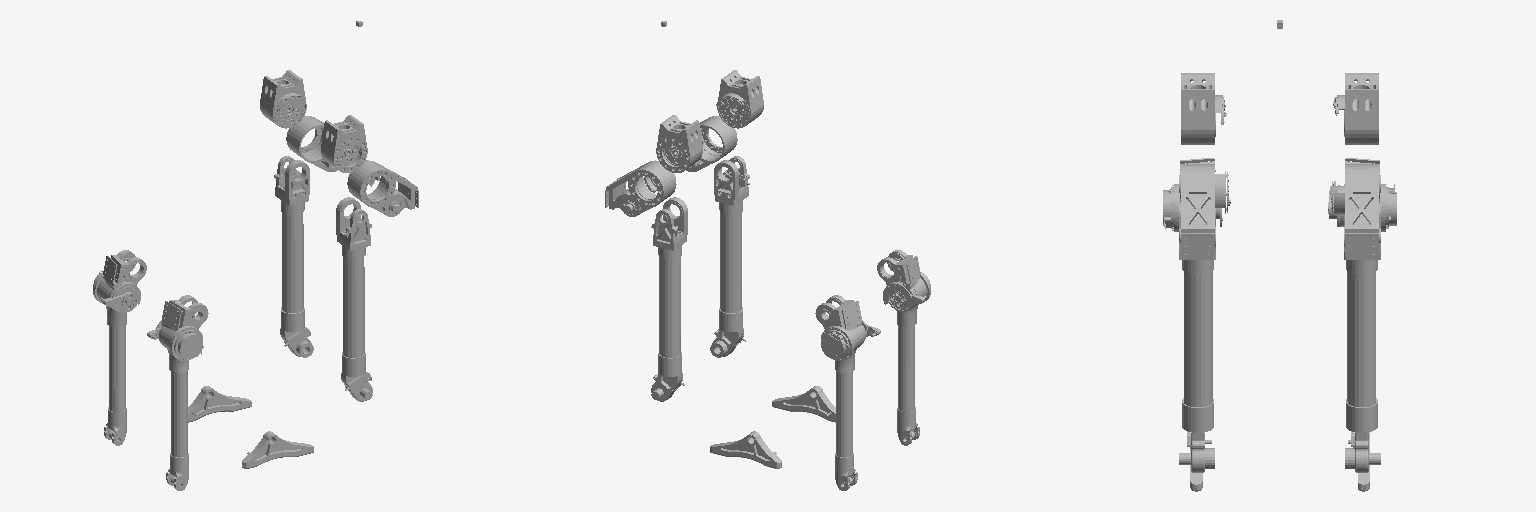
URDF robot description (casia_nn):
<?xml version="1.0" encoding="utf-8"?>
<!-- This URDF was automatically created by SolidWorks to URDF Exporter! Originally created by [author] ([email redacted]) 
     Commit Version: 1.5.1-0-g916b5db  Build Version: 1.5.7152.31018
     For more information, please see http://wiki.ros.org/sw_urdf_exporter -->
<robot
  name="casia_nn">
  <link
    name="pelvis">
    <inertial>
      <origin
        xyz="0.0295583628182488 3.89626767705636E-05 -0.0155783424997366"
        rpy="0 0 0" />
      <mass
        value="6.56964969274137" />
      <inertia
        ixx="0.0235604863264443"
        ixy="-2.84451907912669E-06"
        ixz="7.97597097465655E-06"
        iyy="0.014455865873678"
        iyz="-6.61650817705969E-07"
        izz="0.010763598299641" />
    </inertial>
    <visual>
      <origin
        xyz="0 0 0"
        rpy="0 0 0" />
      <geometry>
        <mesh
          filename="package://meshes/pelvis.STL" />
      </geometry>
      <material
        name="">
        <color
          rgba="0.898039215686275 0.917647058823529 0.929411764705882 1" />
      </material>
    </visual>
    <collision>
      <origin
        xyz="0 0 0"
        rpy="0 0 0" />
      <geometry>
        <mesh
          filename="package://meshes/pelvis.STL" />
      </geometry>
    </collision>
  </link>
  <link
    name="r_hip_roll">
    <inertial>
      <origin
        xyz="-0.0197574983038815 6.70238844218685E-05 -0.0794288941787985"
        rpy="0 0 0" />
      <mass
        value="1.97423093969954" />
      <inertia
        ixx="0.00185917486275064"
        ixy="1.49050941020285E-06"
        ixz="6.47326004132636E-06"
        iyy="0.00121028974020037"
        iyz="-5.40839098440978E-07"
        izz="0.00117581613527246" />
    </inertial>
    <visual>
      <origin
        xyz="0 0 0"
        rpy="0 0 0" />
      <geometry>
        <mesh
          filename="package://meshes/r_hip_roll.STL" />
      </geometry>
      <material
        name="">
        <color
          rgba="0.752941176470588 0.752941176470588 0.752941176470588 1" />
      </material>
    </visual>
    <collision>
      <origin
        xyz="0 0 0"
        rpy="0 0 0" />
      <geometry>
        <mesh
          filename="package://meshes/r_hip_roll.STL" />
      </geometry>
    </collision>
  </link>
  <joint
    name="hip_abduction_right"
    type="revolute">
    <origin
      xyz="0.018 -0.13451 -0.047805"
      rpy="0 1.5708 0" />
    <parent
      link="pelvis" />
    <child
      link="r_hip_roll" />
    <axis
      xyz="0 0 1" />
    <limit
      lower="0"
      upper="0"
      effort="0"
      velocity="0" />
  </joint>
  <link
    name="r_hip_yaw">
    <inertial>
      <origin
        xyz="-4.73889253360046E-05 0.00363016329238441 0.0883973830149929"
        rpy="0 0 0" />
      <mass
        value="2.43369646821999" />
      <inertia
        ixx="0.00169395681390459"
        ixy="-1.50517004981852E-07"
        ixz="2.19244261847128E-06"
        iyy="0.0023433394596445"
        iyz="3.68852375683399E-05"
        izz="0.00159777296295112" />
    </inertial>
    <visual>
      <origin
        xyz="0 0 0"
        rpy="0 0 0" />
      <geometry>
        <mesh
          filename="package://meshes/r_hip_yaw.STL" />
      </geometry>
      <material
        name="">
        <color
          rgba="0.752941176470588 0.752941176470588 0.752941176470588 1" />
      </material>
    </visual>
    <collision>
      <origin
        xyz="0 0 0"
        rpy="0 0 0" />
      <geometry>
        <mesh
          filename="package://meshes/r_hip_yaw.STL" />
      </geometry>
    </collision>
  </link>
  <joint
    name="hip_rotation_right"
    type="revolute">
    <origin
      xyz="0 0 -0.0805"
      rpy="0 1.5708 0" />
    <parent
      link="r_hip_roll" />
    <child
      link="r_hip_yaw" />
    <axis
      xyz="0 0 1" />
    <limit
      lower="0"
      upper="0"
      effort="0"
      velocity="0" />
  </joint>
  <link
    name="r_thigh">
    <inertial>
      <origin
        xyz="0.0685729502831823 0.0479698353391961 0.0307488394818552"
        rpy="0 0 0" />
      <mass
        value="5.11194928203702" />
      <inertia
        ixx="0.00426047675297536"
        ixy="-0.00110099031458567"
        ixz="1.28543730599597E-05"
        iyy="0.00506266459922407"
        iyz="9.33369842702112E-06"
        izz="0.00789276709742591" />
    </inertial>
    <visual>
      <origin
        xyz="0 0 0"
        rpy="0 0 0" />
      <geometry>
        <mesh
          filename="package://meshes/r_thigh.STL" />
      </geometry>
      <material
        name="">
        <color
          rgba="0.752941176470588 0.752941176470588 0.752941176470588 1" />
      </material>
    </visual>
    <collision>
      <origin
        xyz="0 0 0"
        rpy="0 0 0" />
      <geometry>
        <mesh
          filename="package://meshes/r_thigh.STL" />
      </geometry>
    </collision>
  </link>
  <joint
    name="hip_flexion_right"
    type="revolute">
    <origin
      xyz="0 0 0.093"
      rpy="1.5708 -1.5708 0" />
    <parent
      link="r_hip_yaw" />
    <child
      link="r_thigh" />
    <axis
      xyz="0 0 1" />
    <limit
      lower="0"
      upper="0"
      effort="0"
      velocity="0" />
  </joint>
  <link
    name="r_knee">
    <inertial>
      <origin
        xyz="0.0673347908699269 -0.0408261195227061 0.000525851438163333"
        rpy="0 0 0" />
      <mass
        value="1.01415633393374" />
      <inertia
        ixx="0.00138091069071133"
        ixy="0.000368990120373794"
        ixz="6.67170729229836E-05"
        iyy="0.00150859277279031"
        iyz="-3.04334793097721E-05"
        izz="0.00232695030098416" />
    </inertial>
    <visual>
      <origin
        xyz="0 0 0"
        rpy="0 0 0" />
      <geometry>
        <mesh
          filename="package://meshes/r_knee.STL" />
      </geometry>
      <material
        name="">
        <color
          rgba="0.752941176470588 0.752941176470588 0.752941176470588 1" />
      </material>
    </visual>
    <collision>
      <origin
        xyz="0 0 0"
        rpy="0 0 0" />
      <geometry>
        <mesh
          filename="package://meshes/r_knee.STL" />
      </geometry>
    </collision>
  </link>
  <joint
    name="knee_joint_right"
    type="revolute">
    <origin
      xyz="0.0982982453146905 0.0688291723621127 0"
      rpy="0 0 0" />
    <parent
      link="r_thigh" />
    <child
      link="r_knee" />
    <axis
      xyz="0 0 1" />
    <limit
      lower="0"
      upper="0"
      effort="0"
      velocity="0" />
  </joint>
  <link
    name="r_shin">
    <inertial>
      <origin
        xyz="0.0655655590465977 -0.214237329289944 -0.00087227139693985"
        rpy="0 0 0" />
      <mass
        value="0.779006439067188" />
      <inertia
        ixx="0.001885379913285"
        ixy="0.000499796698378055"
        ixz="1.5631863147637E-05"
        iyy="0.000554466898366838"
        iyz="-4.66941850735566E-05"
        izz="0.00211050664331812" />
    </inertial>
    <visual>
      <origin
        xyz="0 0 0"
        rpy="0 0 0" />
      <geometry>
        <mesh
          filename="package://meshes/r_shin.STL" />
      </geometry>
      <material
        name="">
        <color
          rgba="0.752941176470588 0.752941176470588 0.752941176470588 1" />
      </material>
    </visual>
    <collision>
      <origin
        xyz="0 0 0"
        rpy="0 0 0" />
      <geometry>
        <mesh
          filename="package://meshes/r_shin.STL" />
      </geometry>
    </collision>
  </link>
  <joint
    name="knee_to_shin_right"
    type="revolute">
    <origin
      xyz="0.062287 -0.045254 0"
      rpy="0 0 0" />
    <parent
      link="r_knee" />
    <child
      link="r_shin" />
    <axis
      xyz="0 0 1" />
    <limit
      lower="0"
      upper="0"
      effort="0"
      velocity="0" />
  </joint>
  <link
    name="r_tarsus">
    <inertial>
      <origin
        xyz="0.0780816771291874 0.0165138728964573 0.00516669812848947"
        rpy="0 0 0" />
      <mass
        value="1.94151147038443" />
      <inertia
        ixx="0.00111915672825346"
        ixy="-0.000623002076694248"
        ixz="6.01246794473476E-05"
        iyy="0.00188049520930721"
        iyz="-6.39186335574696E-06"
        izz="0.00257470051279483" />
    </inertial>
    <visual>
      <origin
        xyz="0 0 0"
        rpy="0 0 0" />
      <geometry>
        <mesh
          filename="package://meshes/r_tarsus.STL" />
      </geometry>
      <material
        name="">
        <color
          rgba="0.752941176470588 0.752941176470588 0.752941176470588 1" />
      </material>
    </visual>
    <collision>
      <origin
        xyz="0 0 0"
        rpy="0 0 0" />
      <geometry>
        <mesh
          filename="package://meshes/r_tarsus.STL" />
      </geometry>
    </collision>
  </link>
  <joint
    name="ankle_joint_right"
    type="revolute">
    <origin
      xyz="0.13907 -0.41244 0"
      rpy="0 0 0" />
    <parent
      link="r_shin" />
    <child
      link="r_tarsus" />
    <axis
      xyz="0 0 1" />
    <limit
      lower="0"
      upper="0"
      effort="0"
      velocity="0" />
  </joint>
  <link
    name="r_toe">
    <inertial>
      <origin
        xyz="0.0317994627773587 0.0131603145338895 -0.00022635510387084"
        rpy="0 0 0" />
      <mass
        value="0.190609208184761" />
      <inertia
        ixx="0.000403925014775728"
        ixy="-1.80428934533817E-05"
        ixz="3.5374222381638E-07"
        iyy="4.57189572620081E-05"
        iyz="-2.25660506417667E-06"
        izz="0.000437978027001801" />
    </inertial>
    <visual>
      <origin
        xyz="0 0 0"
        rpy="0 0 0" />
      <geometry>
        <mesh
          filename="package://meshes/r_toe.STL" />
      </geometry>
      <material
        name="">
        <color
          rgba="0.752941176470588 0.752941176470588 0.752941176470588 1" />
      </material>
    </visual>
    <collision>
      <origin
        xyz="0 0 0"
        rpy="0 0 0" />
      <geometry>
        <mesh
          filename="package://meshes/r_toe.STL" />
      </geometry>
    </collision>
  </link>
  <joint
    name="toe_joint_right"
    type="revolute">
    <origin
      xyz="0.35711 0.19931 0.0028"
      rpy="0 0 0" />
    <parent
      link="r_tarsus" />
    <child
      link="r_toe" />
    <axis
      xyz="0 0 1" />
    <limit
      lower="0"
      upper="0"
      effort="0"
      velocity="0" />
  </joint>
  <link
    name="l_hip_roll">
    <inertial>
      <origin
        xyz="-0.0197574983038945 6.7023884433498E-05 -0.0794288941787983"
        rpy="0 0 0" />
      <mass
        value="1.97423093969954" />
      <inertia
        ixx="0.00185917486275064"
        ixy="1.49050941020278E-06"
        ixz="6.47326004132589E-06"
        iyy="0.00121028974020037"
        iyz="-5.40839098440933E-07"
        izz="0.00117581613527246" />
    </inertial>
    <visual>
      <origin
        xyz="0 0 0"
        rpy="0 0 0" />
      <geometry>
        <mesh
          filename="package://meshes/l_hip_roll.STL" />
      </geometry>
      <material
        name="">
        <color
          rgba="0.752941176470588 0.752941176470588 0.752941176470588 1" />
      </material>
    </visual>
    <collision>
      <origin
        xyz="0 0 0"
        rpy="0 0 0" />
      <geometry>
        <mesh
          filename="package://meshes/l_hip_roll.STL" />
      </geometry>
    </collision>
  </link>
  <joint
    name="hip_abduction_left"
    type="revolute">
    <origin
      xyz="0.018 0.13451 -0.047805"
      rpy="0 1.5708 0" />
    <parent
      link="pelvis" />
    <child
      link="l_hip_roll" />
    <axis
      xyz="0 0 1" />
    <limit
      lower="0"
      upper="0"
      effort="0"
      velocity="0" />
  </joint>
  <link
    name="l_hip_yaw">
    <inertial>
      <origin
        xyz="4.73889254370141E-05 -0.0036301632926162 0.0883973830148019"
        rpy="0 0 0" />
      <mass
        value="2.4336964682369" />
      <inertia
        ixx="0.00169395681390481"
        ixy="-1.50517004720101E-07"
        ixz="-2.19244261800633E-06"
        iyy="0.00234333945964616"
        iyz="-3.68852375683949E-05"
        izz="0.00159777296295269" />
    </inertial>
    <visual>
      <origin
        xyz="0 0 0"
        rpy="0 0 0" />
      <geometry>
        <mesh
          filename="package://meshes/l_hip_yaw.STL" />
      </geometry>
      <material
        name="">
        <color
          rgba="0.752941176470588 0.752941176470588 0.752941176470588 1" />
      </material>
    </visual>
    <collision>
      <origin
        xyz="0 0 0"
        rpy="0 0 0" />
      <geometry>
        <mesh
          filename="package://meshes/l_hip_yaw.STL" />
      </geometry>
    </collision>
  </link>
  <joint
    name="hip_rotation_left"
    type="revolute">
    <origin
      xyz="0 0 -0.0805"
      rpy="0 1.5708 0" />
    <parent
      link="l_hip_roll" />
    <child
      link="l_hip_yaw" />
    <axis
      xyz="0 0 1" />
    <limit
      lower="0"
      upper="0"
      effort="0"
      velocity="0" />
  </joint>
  <link
    name="l_thigh">
    <inertial>
      <origin
        xyz="0.0685302310548434 0.0480308458789425 -0.030748839639186"
        rpy="0 0 0" />
      <mass
        value="5.11194929719301" />
      <inertia
        ixx="0.00426112792982154"
        ixy="-0.00110123302114312"
        ixz="-1.31649724229855E-05"
        iyy="0.00506200426617619"
        iyz="-8.88867037263613E-06"
        izz="0.00789275874711265" />
    </inertial>
    <visual>
      <origin
        xyz="0 0 0"
        rpy="0 0 0" />
      <geometry>
        <mesh
          filename="package://meshes/l_thigh.STL" />
      </geometry>
      <material
        name="">
        <color
          rgba="0.752941176470588 0.752941176470588 0.752941176470588 1" />
      </material>
    </visual>
    <collision>
      <origin
        xyz="0 0 0"
        rpy="0 0 0" />
      <geometry>
        <mesh
          filename="package://meshes/l_thigh.STL" />
      </geometry>
    </collision>
  </link>
  <joint
    name="hip_flexion_left"
    type="revolute">
    <origin
      xyz="0 0 0.093"
      rpy="1.5708 -1.5708 0" />
    <parent
      link="l_hip_yaw" />
    <child
      link="l_thigh" />
    <axis
      xyz="0 0 1" />
    <limit
      lower="0"
      upper="0"
      effort="0"
      velocity="0" />
  </joint>
  <link
    name="l_knee">
    <inertial>
      <origin
        xyz="0.0674504468774198 -0.041225255529357 -0.000535843162973365"
        rpy="0 0 0" />
      <mass
        value="1.01415630200042" />
      <inertia
        ixx="0.0013826035900901"
        ixy="0.000366289518226393"
        ixz="-6.65724363896649E-05"
        iyy="0.00150689989702225"
        iyz="2.99281840358018E-05"
        izz="0.0023269503250984" />
    </inertial>
    <visual>
      <origin
        xyz="0 0 0"
        rpy="0 0 0" />
      <geometry>
        <mesh
          filename="package://meshes/l_knee.STL" />
      </geometry>
      <material
        name="">
        <color
          rgba="0.752941176470588 0.752941176470588 0.752941176470588 1" />
      </material>
    </visual>
    <collision>
      <origin
        xyz="0 0 0"
        rpy="0 0 0" />
      <geometry>
        <mesh
          filename="package://meshes/l_knee.STL" />
      </geometry>
    </collision>
  </link>
  <joint
    name="knee_joint_left"
    type="revolute">
    <origin
      xyz="0.098298 0.068829 0"
      rpy="0 0 0" />
    <parent
      link="l_thigh" />
    <child
      link="l_knee" />
    <axis
      xyz="0 0 1" />
    <limit
      lower="0"
      upper="0"
      effort="0"
      velocity="0" />
  </joint>
  <link
    name="l_shin">
    <inertial>
      <origin
        xyz="0.0655890782732108 -0.214230585561533 0.00106622773914439"
        rpy="0 0 0" />
      <mass
        value="0.779006437877839" />
      <inertia
        ixx="0.00188530034989244"
        ixy="0.000499924025735207"
        ixz="-1.56225974134918E-05"
        iyy="0.00055454646074138"
        iyz="4.66852690344962E-05"
        izz="0.00211050664189535" />
    </inertial>
    <visual>
      <origin
        xyz="0 0 0"
        rpy="0 0 0" />
      <geometry>
        <mesh
          filename="package://meshes/l_shin.STL" />
      </geometry>
      <material
        name="">
        <color
          rgba="0.752941176470588 0.752941176470588 0.752941176470588 1" />
      </material>
    </visual>
    <collision>
      <origin
        xyz="0 0 0"
        rpy="0 0 0" />
      <geometry>
        <mesh
          filename="package://meshes/l_shin.STL" />
      </geometry>
    </collision>
  </link>
  <joint
    name="knee_to_shin_left"
    type="revolute">
    <origin
      xyz="0.062287 -0.045254 0"
      rpy="0 0 0" />
    <parent
      link="l_knee" />
    <child
      link="l_shin" />
    <axis
      xyz="0 0 1" />
    <limit
      lower="0"
      upper="0"
      effort="0"
      velocity="0" />
  </joint>
  <link
    name="l_tarsus">
    <inertial>
      <origin
        xyz="0.0780813858638859 0.0164864095776264 -0.00120408021261728"
        rpy="0 0 0" />
      <mass
        value="1.93627509585749" />
      <inertia
        ixx="0.00111941661237857"
        ixy="-0.00062217550042401"
        ixz="-6.02379368655199E-05"
        iyy="0.00188017865172869"
        iyz="6.05167622074648E-06"
        izz="0.00257469613062871" />
    </inertial>
    <visual>
      <origin
        xyz="0 0 0"
        rpy="0 0 0" />
      <geometry>
        <mesh
          filename="package://meshes/l_tarsus.STL" />
      </geometry>
      <material
        name="">
        <color
          rgba="0.752941176470588 0.752941176470588 0.752941176470588 1" />
      </material>
    </visual>
    <collision>
      <origin
        xyz="0 0 0"
        rpy="0 0 0" />
      <geometry>
        <mesh
          filename="package://meshes/l_tarsus.STL" />
      </geometry>
    </collision>
  </link>
  <joint
    name="ankle_joint_left"
    type="revolute">
    <origin
      xyz="0.13907 -0.41244 0"
      rpy="0 0 0" />
    <parent
      link="l_shin" />
    <child
      link="l_tarsus" />
    <axis
      xyz="0 0 1" />
    <limit
      lower="0"
      upper="0"
      effort="0"
      velocity="0" />
  </joint>
  <link
    name="l_toe">
    <inertial>
      <origin
        xyz="0.031799474377373 0.0131603332564339 0.000226358169668789"
        rpy="0 0 0" />
      <mass
        value="0.190609360843341" />
      <inertia
        ixx="0.000403925512066601"
        ixy="-1.80429609624394E-05"
        ixz="-3.5374364447634E-07"
        iyy="4.57190164090645E-05"
        iyz="2.25659779891479E-06"
        izz="0.000437978588037872" />
    </inertial>
    <visual>
      <origin
        xyz="0 0 0"
        rpy="0 0 0" />
      <geometry>
        <mesh
          filename="package://meshes/l_toe.STL" />
      </geometry>
      <material
        name="">
        <color
          rgba="0.752941176470588 0.752941176470588 0.752941176470588 1" />
      </material>
    </visual>
    <collision>
      <origin
        xyz="0 0 0"
        rpy="0 0 0" />
      <geometry>
        <mesh
          filename="package://meshes/l_toe.STL" />
      </geometry>
    </collision>
  </link>
  <joint
    name="toe_joint_left"
    type="revolute">
    <origin
      xyz="0.35711 0.19931 -0.003"
      rpy="0 0 0" />
    <parent
      link="l_tarsus" />
    <child
      link="l_toe" />
    <axis
      xyz="0 0 1" />
    <limit
      lower="0"
      upper="0"
      effort="0"
      velocity="0" />
  </joint>
  <link
    name="vectorNav">
    <inertial>
      <origin
        xyz="0 6.02663941971435E-19 -1.38777878078145E-17"
        rpy="0 0 0" />
      <mass
        value="0.001" />
      <inertia
        ixx="1.66666666666667E-08"
        ixy="-1.85249634868463E-24"
        ixz="1.30104260698261E-24"
        iyy="1.66666666666667E-08"
        iyz="5.51453741702019E-25"
        izz="1.66666666666667E-08" />
    </inertial>
    <visual>
      <origin
        xyz="0 0 0"
        rpy="0 0 0" />
      <geometry>
        <mesh
          filename="package://meshes/vectorNav.STL" />
      </geometry>
      <material
        name="">
        <color
          rgba="0.752941176470588 0.752941176470588 0.752941176470588 1" />
      </material>
    </visual>
    <collision>
      <origin
        xyz="0 0 0"
        rpy="0 0 0" />
      <geometry>
        <mesh
          filename="package://meshes/vectorNav.STL" />
      </geometry>
    </collision>
  </link>
  <joint
    name="pelvis_to_vectorNav"
    type="fixed">
    <origin
      xyz="0.05413 0 0.085"
      rpy="0 0 0" />
    <parent
      link="pelvis" />
    <child
      link="vectorNav" />
    <axis
      xyz="0 0 0" />
  </joint>
    <transmission name="hip_abduction_trans_left" type="transmission_interface/SimpleTransmission">
    <joint name="hip_abduction_left"/>
    <actuator name="hip_abduction_motor_left"/>
    <motorInertia>0.000061</motorInertia>
    <mechanicalReduction>50</mechanicalReduction>
  </transmission>
  <transmission name="hip_rotation_trans_left" type="transmission_interface/SimpleTransmission">
    <joint name="hip_rotation_left"/>
    <actuator name="hip_rotation_motor_left"/>
    <motorInertia>0.000061</motorInertia>
    <mechanicalReduction>50</mechanicalReduction>
  </transmission>
  <transmission name="hip_flexion_trans_left" type="transmission_interface/SimpleTransmission">
    <joint name="hip_flexion_left"/>
    <actuator name="hip_flexion_motor_left"/>
    <motorInertia>0.000365</motorInertia>
    <mechanicalReduction>37</mechanicalReduction>
  </transmission>
  <transmission name="knee_joint_trans_left" type="transmission_interface/SimpleTransmission">
    <joint name="knee_joint_left"/>
    <actuator name="knee_joint_motor_left"/>
    <motorInertia>0.000365</motorInertia>
    <mechanicalReduction>37</mechanicalReduction>
  </transmission>
  <transmission name="toe_joint_trans_left" type="transmission_interface/SimpleTransmission">
    <joint name="toe_joint_left"/>
    <actuator name="toe_joint_motor_left"/>
    <motorInertia>0.0000049</motorInertia>
    <mechanicalReduction>50</mechanicalReduction>
  </transmission>
  <transmission name="hip_abduction_trans_right" type="transmission_interface/SimpleTransmission">
    <joint name="hip_abduction_right"/>
    <actuator name="hip_abduction_motor_right"/>
    <motorInertia>0.000061</motorInertia>
    <mechanicalReduction>50</mechanicalReduction>
  </transmission>
  <transmission name="hip_rotation_trans_right" type="transmission_interface/SimpleTransmission">
    <joint name="hip_rotation_right"/>
    <actuator name="hip_rotation_motor_right"/>
    <motorInertia>0.000061</motorInertia>
    <mechanicalReduction>50</mechanicalReduction>
  </transmission>
  <transmission name="hip_flexion_trans_right" type="transmission_interface/SimpleTransmission">
    <joint name="hip_flexion_right"/>
    <actuator name="hip_flexion_motor_right"/>
    <motorInertia>0.000365</motorInertia>
    <mechanicalReduction>37</mechanicalReduction>
  </transmission>
  <transmission name="knee_joint_trans_right" type="transmission_interface/SimpleTransmission">
    <joint name="knee_joint_right"/>
    <actuator name="knee_joint_motor_right"/>
    <motorInertia>0.000365</motorInertia>
    <mechanicalReduction>37</mechanicalReduction>
  </transmission>
  <transmission name="toe_joint_trans_right" type="transmission_interface/SimpleTransmission">
    <joint name="toe_joint_right"/>
    <actuator name="toe_joint_motor_right"/>
    <motorInertia>0.0000049</motorInertia>
    <mechanicalReduction>50</mechanicalReduction>
  </transmission>
</robot>

--- Render facts (derived) ---
Views: 3 orthographic renders of the robot side by side, from view 1: azimuth 30°, elevation 25°; view 2: azimuth 150°, elevation 25°; view 3: azimuth 270°, elevation 25°.
Robot: casia_nn — 16 links, 15 joints (14 revolute, 1 fixed); root link pelvis; default pose: all joints at 0.
Visible links, largest first — view 1: l_shin, r_shin, r_tarsus, l_tarsus, r_knee, r_hip_yaw, l_hip_yaw, l_knee, r_toe, l_toe; view 2: r_shin, l_shin, l_tarsus, r_tarsus, l_knee, l_hip_yaw, r_hip_yaw, r_knee, l_toe, r_toe; view 3: r_shin, l_shin, r_knee, l_knee, r_hip_yaw, l_hip_yaw, l_tarsus, r_tarsus.
Boxes of the visible links, x1,y1,x2,y2 form: l_shin: [274, 156, 313, 357]; r_shin: [336, 197, 372, 401]; r_tarsus: [147, 295, 208, 490]; l_tarsus: [93, 250, 146, 445]; r_knee: [347, 160, 418, 216]; r_hip_yaw: [321, 115, 367, 172]; l_hip_yaw: [260, 70, 306, 128]; l_knee: [286, 116, 337, 171]; r_toe: [242, 431, 313, 468]; l_toe: [188, 386, 251, 422]; r_shin: [710, 156, 749, 357]; l_shin: [651, 197, 687, 401]; l_tarsus: [815, 295, 880, 490]; r_tarsus: [877, 250, 930, 445]; l_knee: [605, 160, 676, 216]; l_hip_yaw: [656, 115, 703, 172]; r_hip_yaw: [716, 70, 763, 128]; r_knee: [686, 116, 737, 171]; l_toe: [710, 431, 781, 468]; r_toe: [772, 386, 835, 422]; r_shin: [1179, 202, 1215, 472]; l_shin: [1344, 202, 1380, 472]; r_knee: [1179, 164, 1230, 256]; l_knee: [1329, 164, 1380, 256]; r_hip_yaw: [1181, 73, 1226, 144]; l_hip_yaw: [1333, 73, 1378, 144]; l_tarsus: [1328, 158, 1396, 231]; r_tarsus: [1163, 158, 1222, 231].
Size in the robot's own frame: 0.6566 by 0.384 by 0.9515 metres.
11 mesh visuals loaded from 16 distinct referenced files (11 binary STL); not drawn: 5 (reference not matched to a file when rendering).